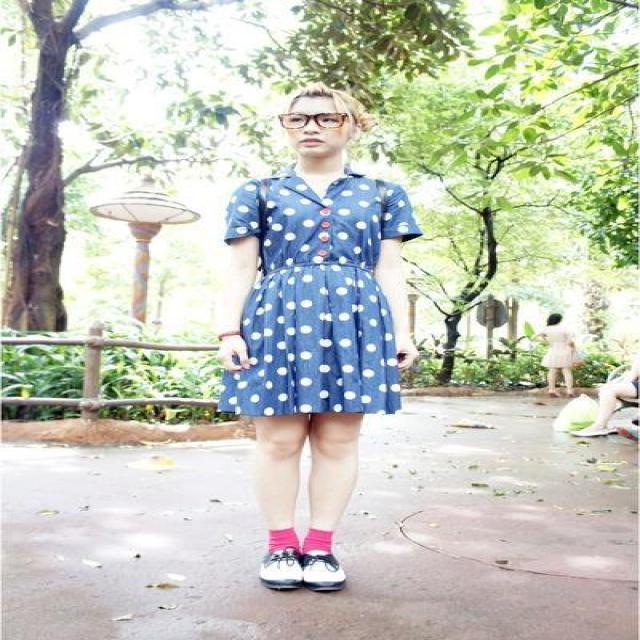dress: (215, 165, 422, 422)
shoe: (259, 550, 344, 582)
